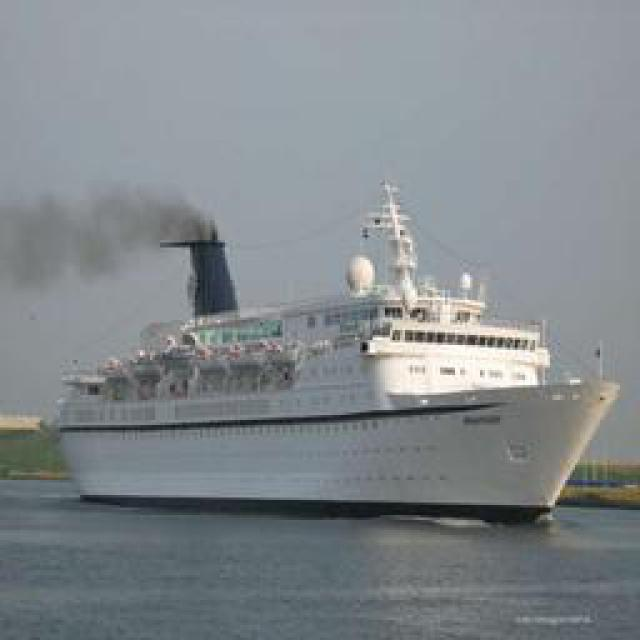Ship: (52, 185, 622, 515)
